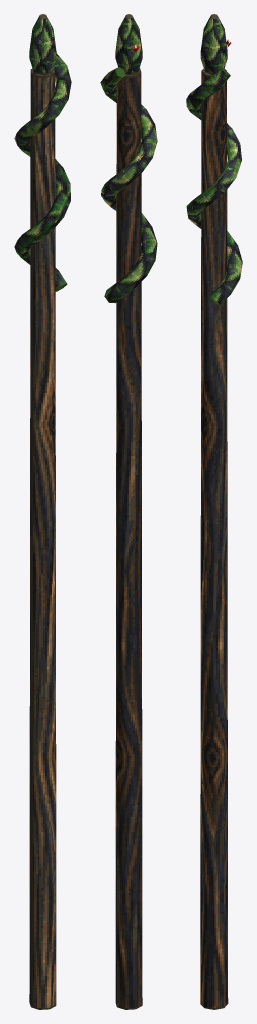
The model's file is serpent_staff.glb.
3 views of the same model, side by side, from view 1: azimuth 30°, elevation 25°; view 2: azimuth 210°, elevation 25°; view 3: azimuth 270°, elevation 25° (orthographic).
Parts seen in each view (by area): view 1: serpent_staff; view 2: serpent_staff; view 3: serpent_staff.
Part boxes in pixels (<box>): serpent_staff: <box>14,14,71,1009</box>; serpent_staff: <box>100,14,157,1009</box>; serpent_staff: <box>186,14,242,1009</box>.
Size of the model in its own units: 0.0649 by 1.25 by 0.0649.
1 material, 1 textured.
